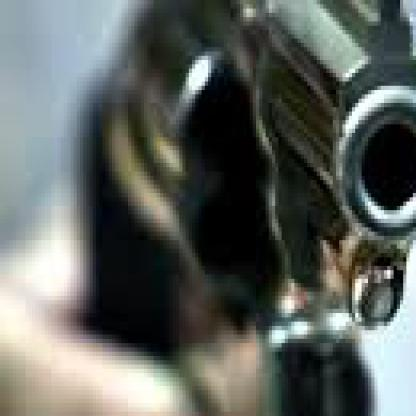gun: (74, 0, 413, 412)
